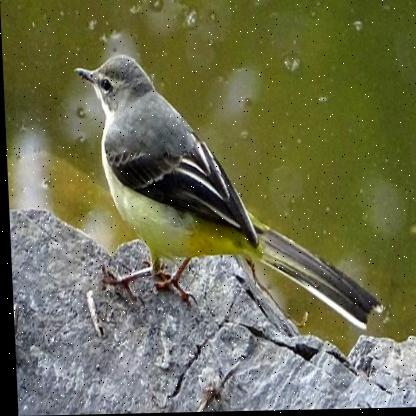Burung: (72, 55, 376, 337)
